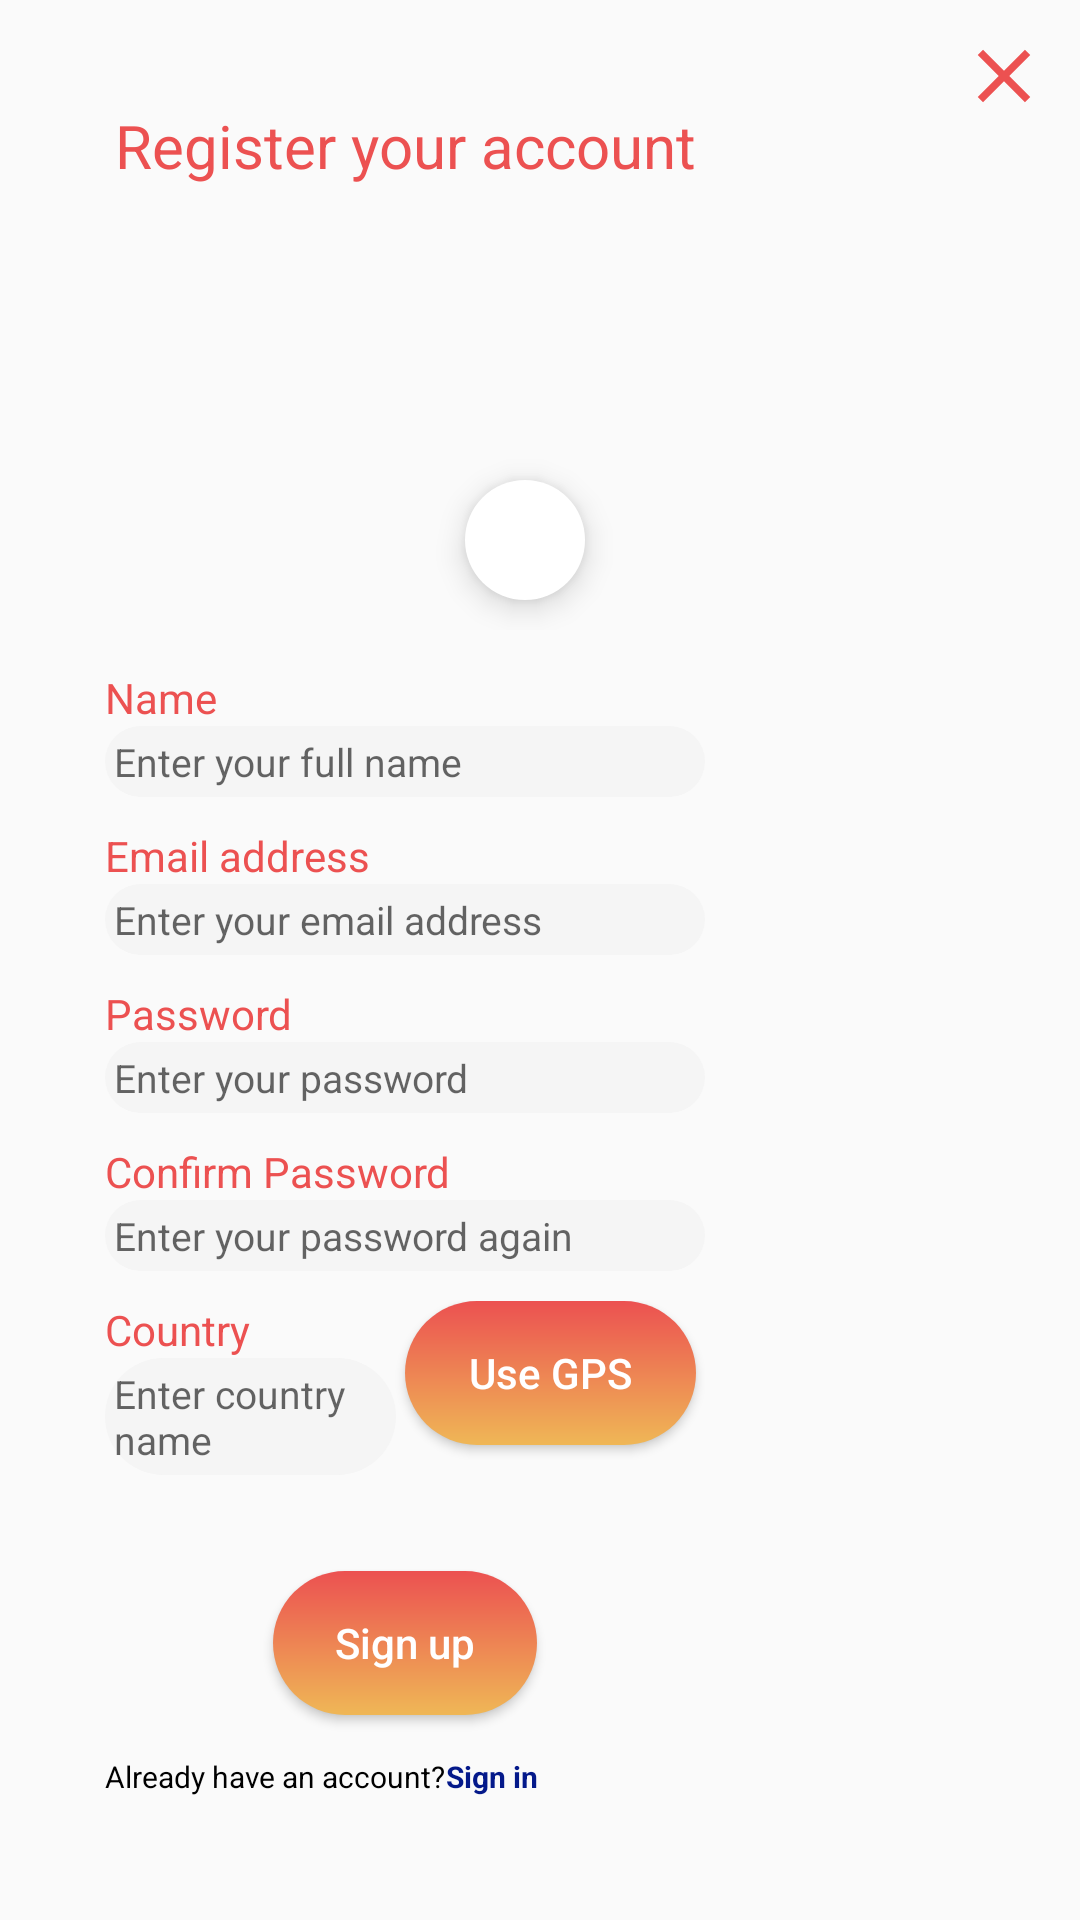

Where icons sit on this 1080px×1920px app screen, as detection(x1, y1, x2, y2):
close: detection(978, 50, 1030, 102)
